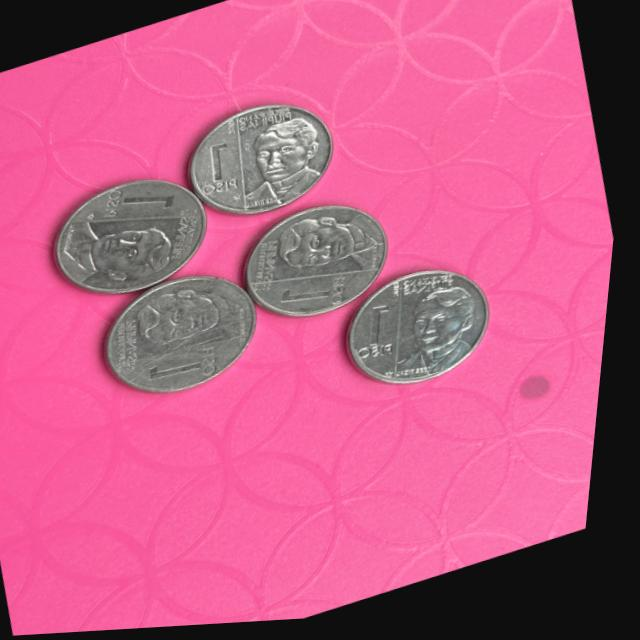1_New_Front: (186, 127, 262, 213), (92, 167, 189, 233), (141, 339, 238, 398), (276, 271, 365, 330), (350, 304, 413, 374)
